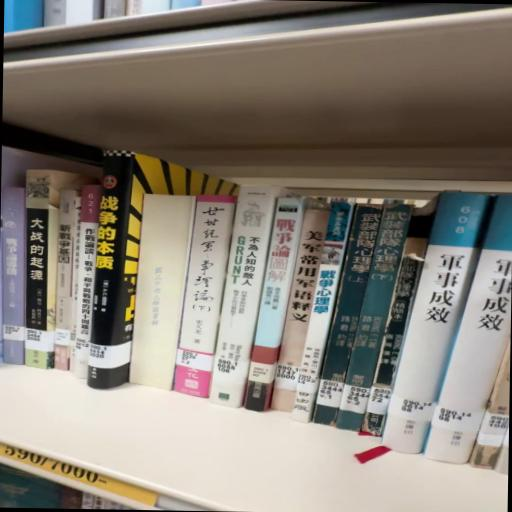backward: (128, 193, 193, 390)
book: (210, 189, 280, 408), (177, 194, 239, 402)
